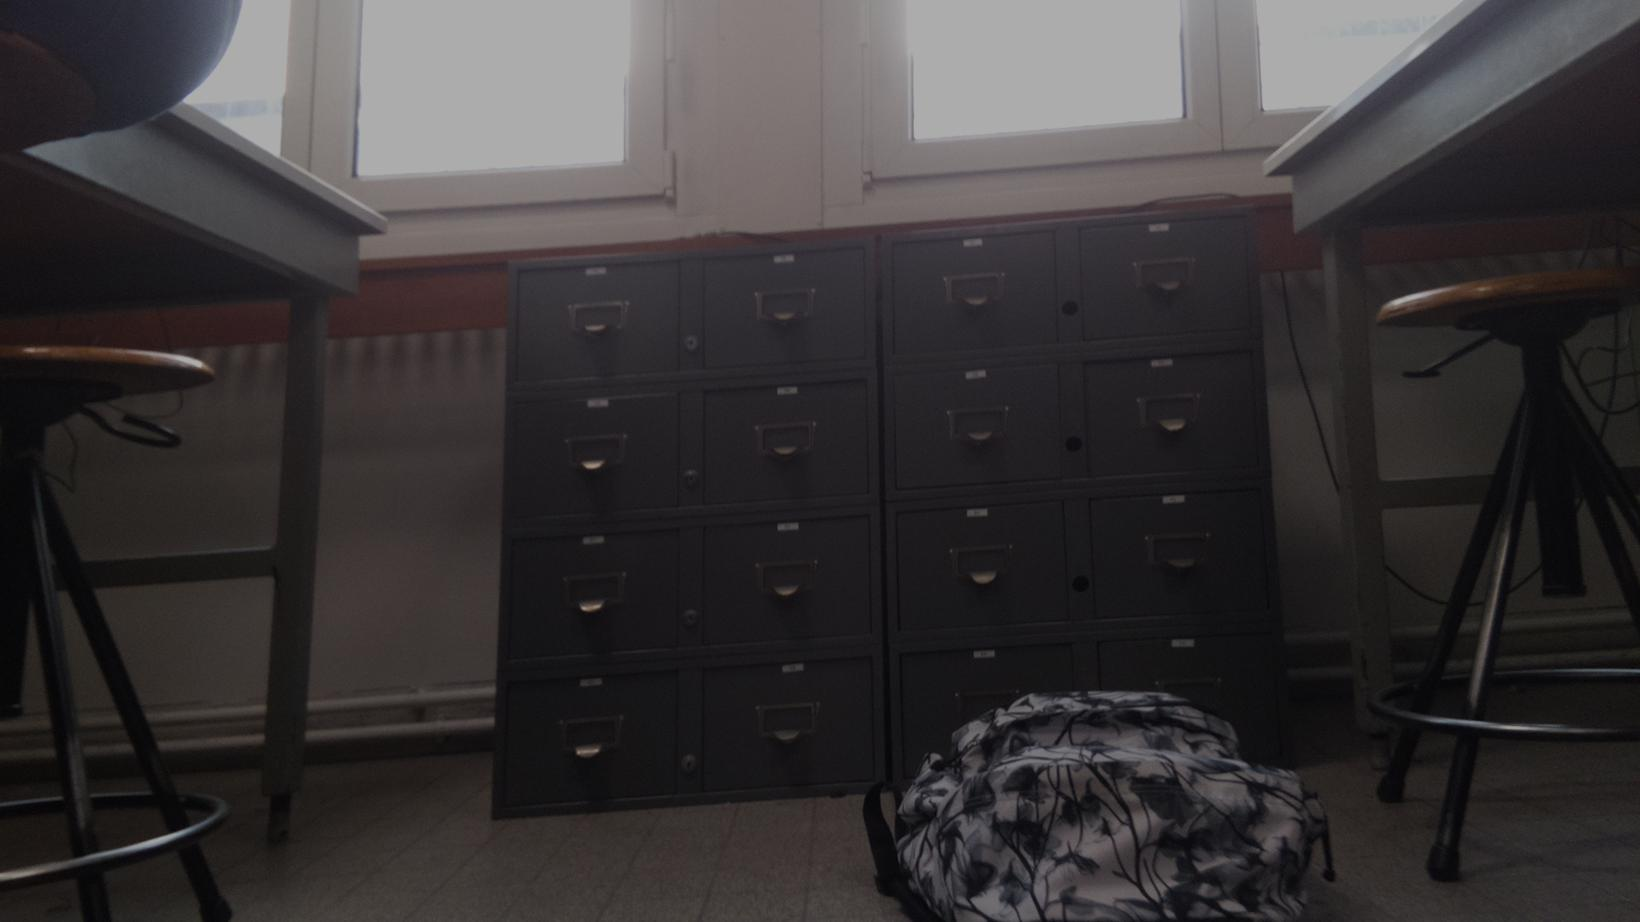big: (898, 687, 1327, 922)
